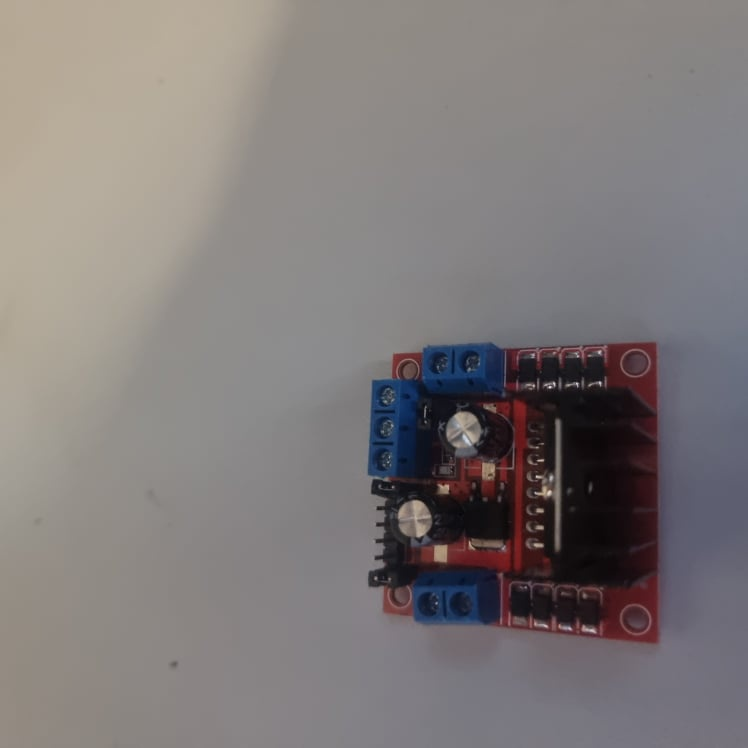MOTOR: (361, 345, 663, 645)
